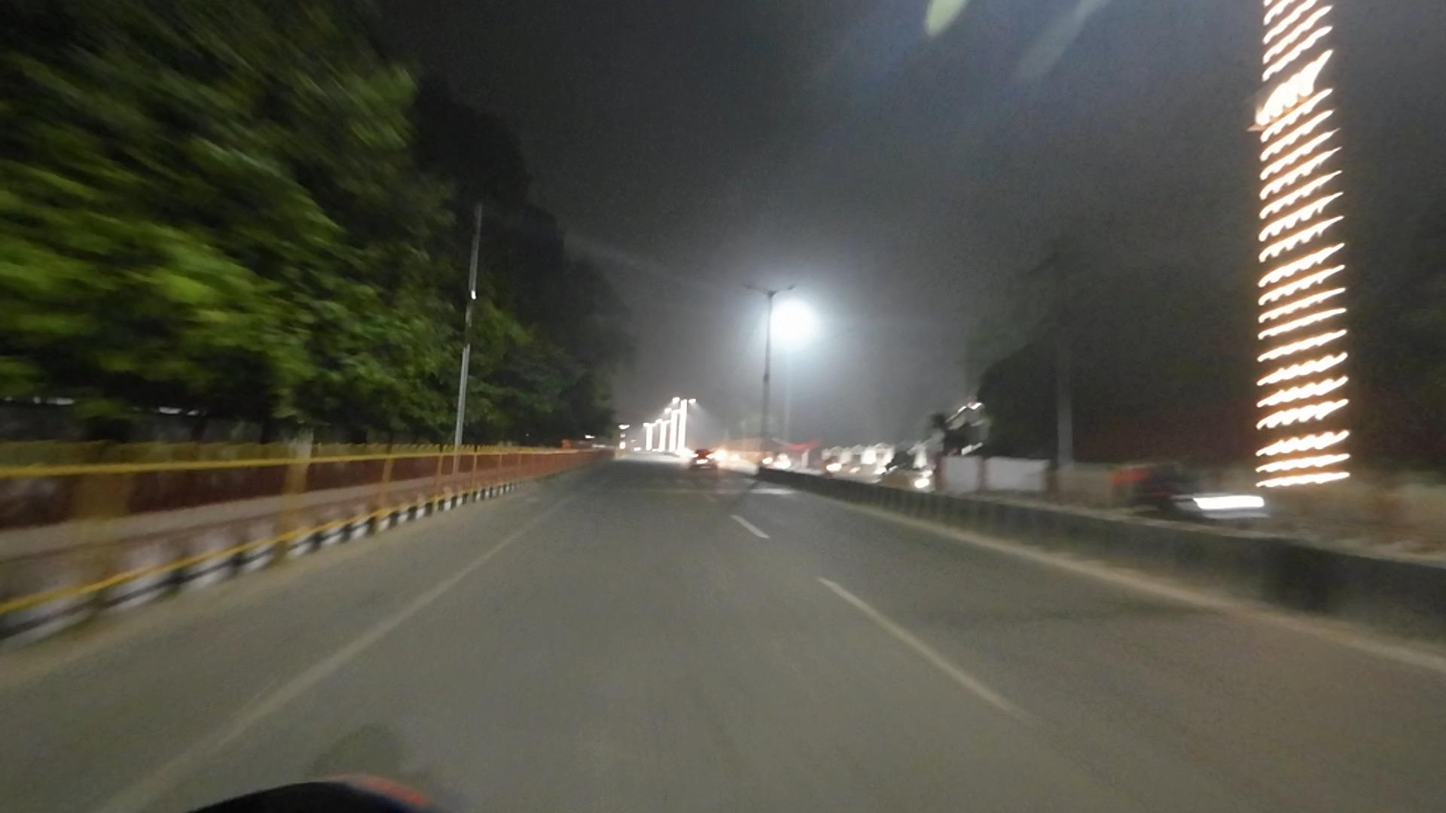streetlight: (741, 278, 768, 296), (774, 283, 796, 295)
